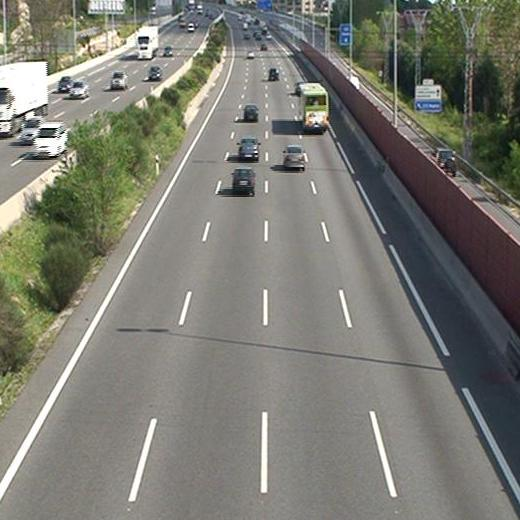bus: (297, 83, 329, 133)
car: (230, 167, 255, 193), (236, 135, 261, 159), (281, 145, 305, 169), (242, 103, 258, 121), (268, 67, 281, 80)
